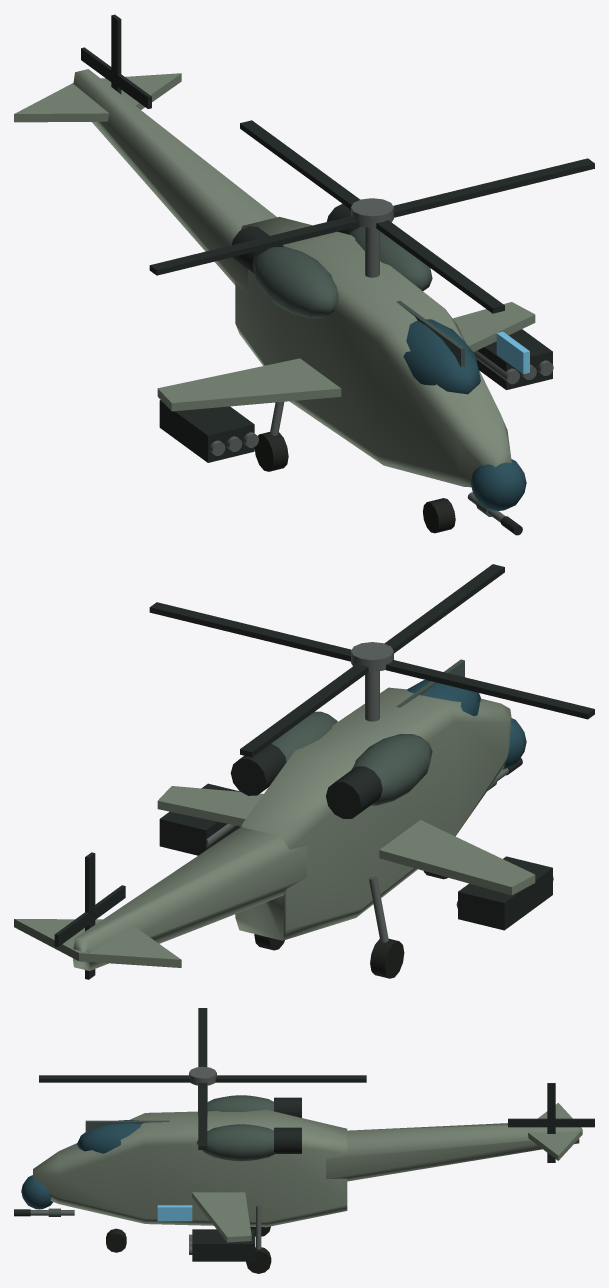
File: casHeli.glb
The picture shows the model from 3 angles, top to bottom: view 1: azimuth 30°, elevation 25°; view 2: azimuth 150°, elevation 25°; view 3: azimuth 270°, elevation 25°; orthographic projection. The views are drawn at different scales.
Parts seen in each view (by area): view 1: armor, dark (×3), trim, glass, steel (×2), rubber, marking; view 2: armor, dark (×3), trim, steel (×3), glass, rubber; view 3: armor, dark (×3), trim, glass, rubber, marking, steel.
Part boxes in pixels (<box>): armor: <box>14,69,535,487</box>; dark (×3): <box>81,14,594,462</box>; trim: <box>254,226,464,367</box>; glass: <box>403,319,526,510</box>; steel (×2): <box>210,198,553,455</box>; rubber: <box>254,432,455,533</box>; marking: <box>496,331,529,374</box>; armor: <box>14,687,535,970</box>; dark (×3): <box>54,564,594,979</box>; trim: <box>271,659,464,805</box>; steel (×3): <box>206,642,553,942</box>; glass: <box>406,680,526,769</box>; rubber: <box>254,871,447,978</box>; armor: <box>33,1103,582,1242</box>; dark (×3): <box>39,1008,594,1261</box>; trim: <box>85,1095,276,1161</box>; glass: <box>21,1120,141,1209</box>; rubber: <box>106,1226,271,1273</box>; marking: <box>157,1205,192,1221</box>; steel: <box>189,1066,216,1085</box>.
Bounding box in the file's own units: 4.7 × 2.86 × 8.34.
